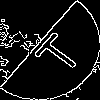T: (25, 25, 86, 78)
